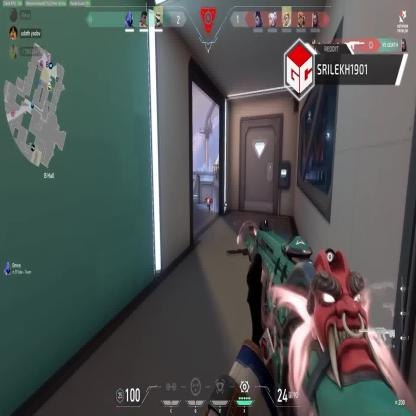enemy: (207, 196, 210, 212)
enemy_head: (208, 196, 210, 199)
